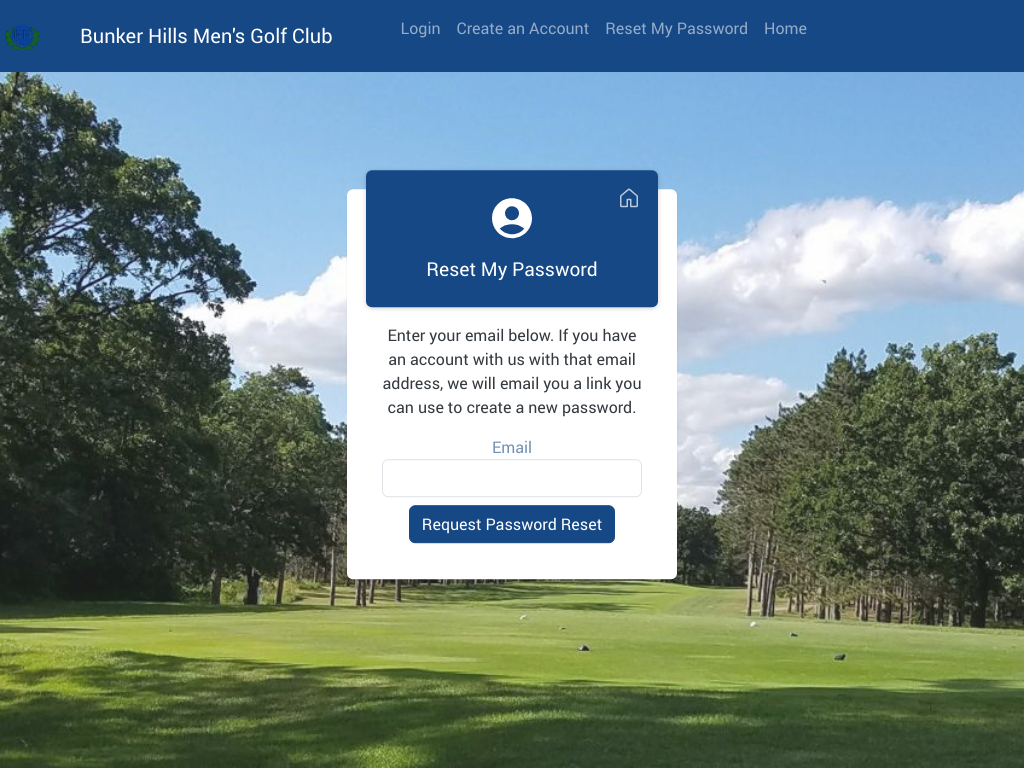
submitting the login form without an email fails validation
The image size is (1024, 768).
Click the button "Request Password Reset".
click(512, 525)  # box [409,506,615,544]
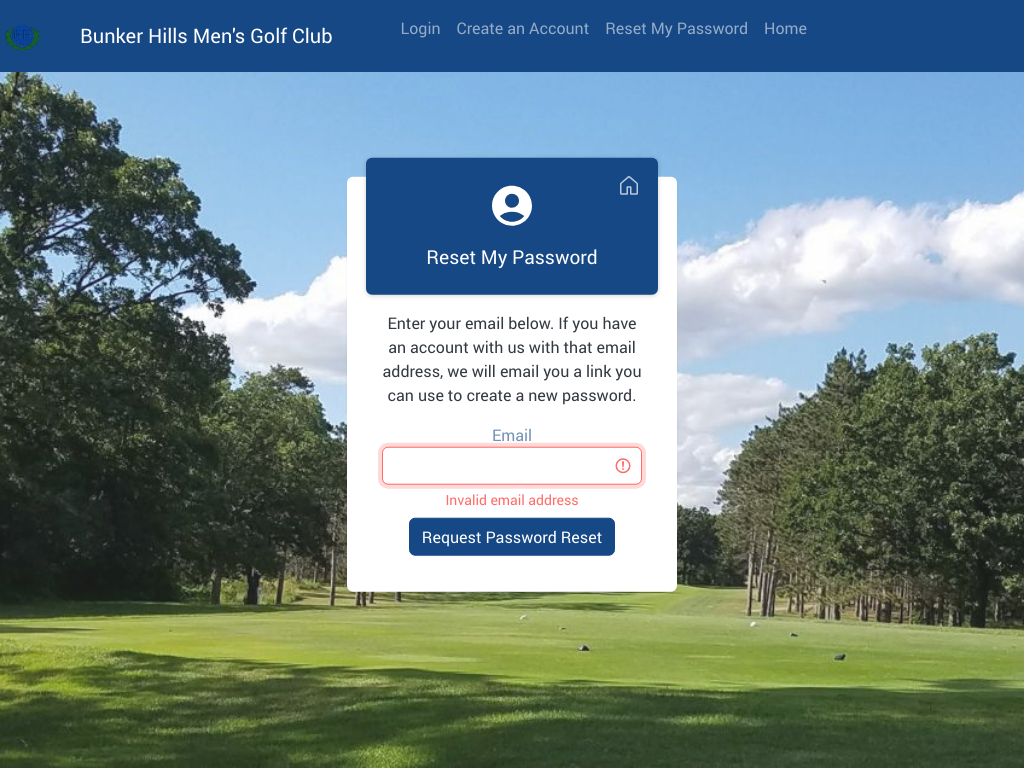
Expected: the text "Invalid email address" is shown, [445,490,579,509]
